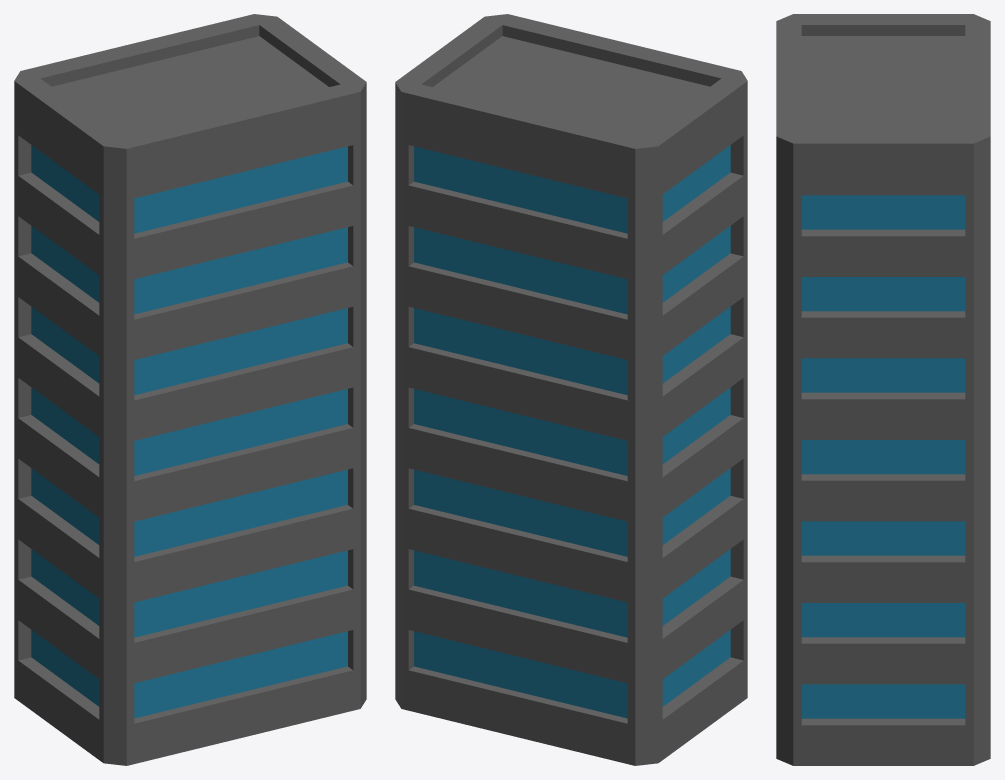
The model's file is biurowiec3.fbx.
3 views of the same model, side by side, from view 1: azimuth 30°, elevation 25°; view 2: azimuth 150°, elevation 25°; view 3: azimuth 270°, elevation 25° (orthographic).
Visible parts, largest first — view 1: biurowiec3; view 2: biurowiec3; view 3: biurowiec3.
Part boxes in pixels (x1=…): biurowiec3: x1=14, y1=14, x2=366, y2=765; biurowiec3: x1=395, y1=14, x2=747, y2=765; biurowiec3: x1=776, y1=14, x2=990, y2=765.
Bounding box in the file's own units: 500 × 1120 × 350.
